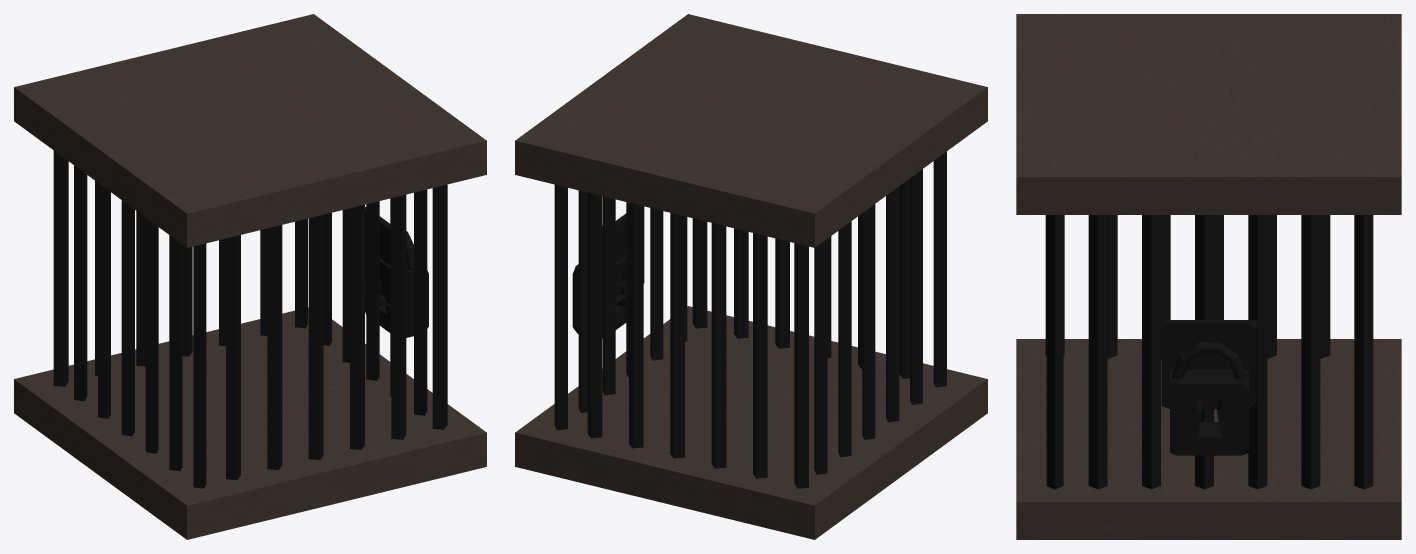
File: Cage.obj
The picture shows the model from 3 angles, left to right: view 1: azimuth 30°, elevation 25°; view 2: azimuth 150°, elevation 25°; view 3: azimuth 270°, elevation 25°; orthographic projection. The views are drawn at different scales.
Parts seen in each view (by area): view 1: Cage.Top_Plane.025; view 2: Cage.Top_Plane.025; view 3: Cage.Top_Plane.025.
Part boxes in pixels (x1=…): Cage.Top_Plane.025: x1=14, y1=14, x2=486, y2=539; Cage.Top_Plane.025: x1=515, y1=14, x2=987, y2=539; Cage.Top_Plane.025: x1=1016, y1=14, x2=1401, y2=539.
Size of the model in its own units: 55.49 by 55.67 by 53.53.
